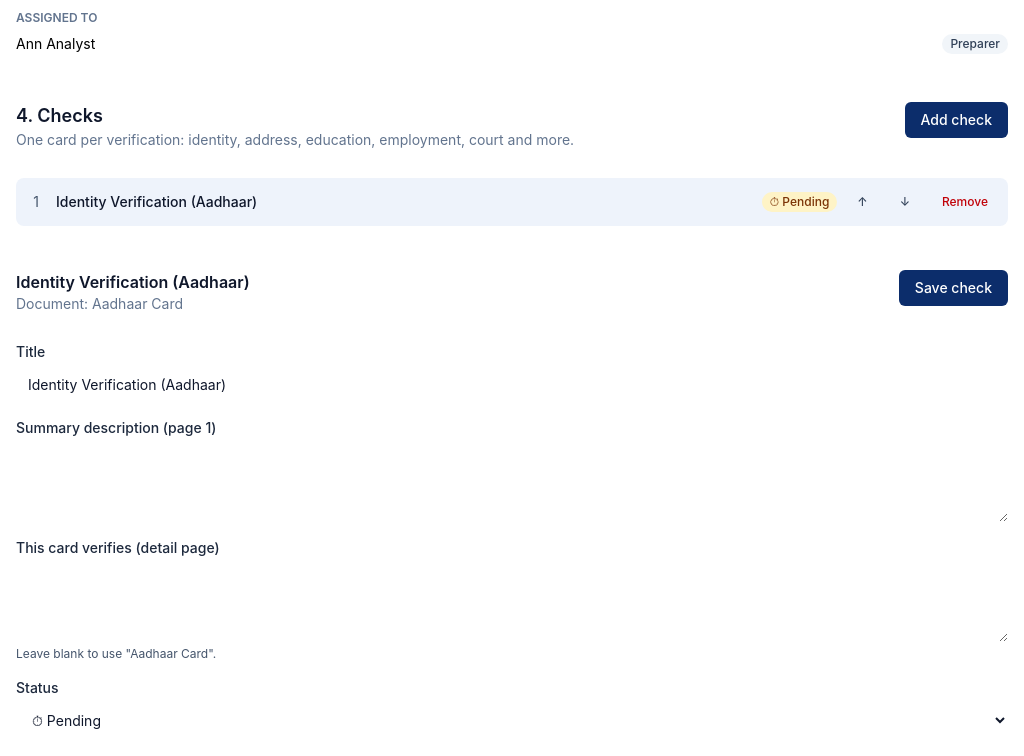
Test case: Checks section › shows the server message and offers a reload when someone else saved first
This screenshot has width=1024, height=756.
(page scrolled)
In the field labelled "Title": (512, 384) left=16, top=366, right=1008, bottom=402, type "!"
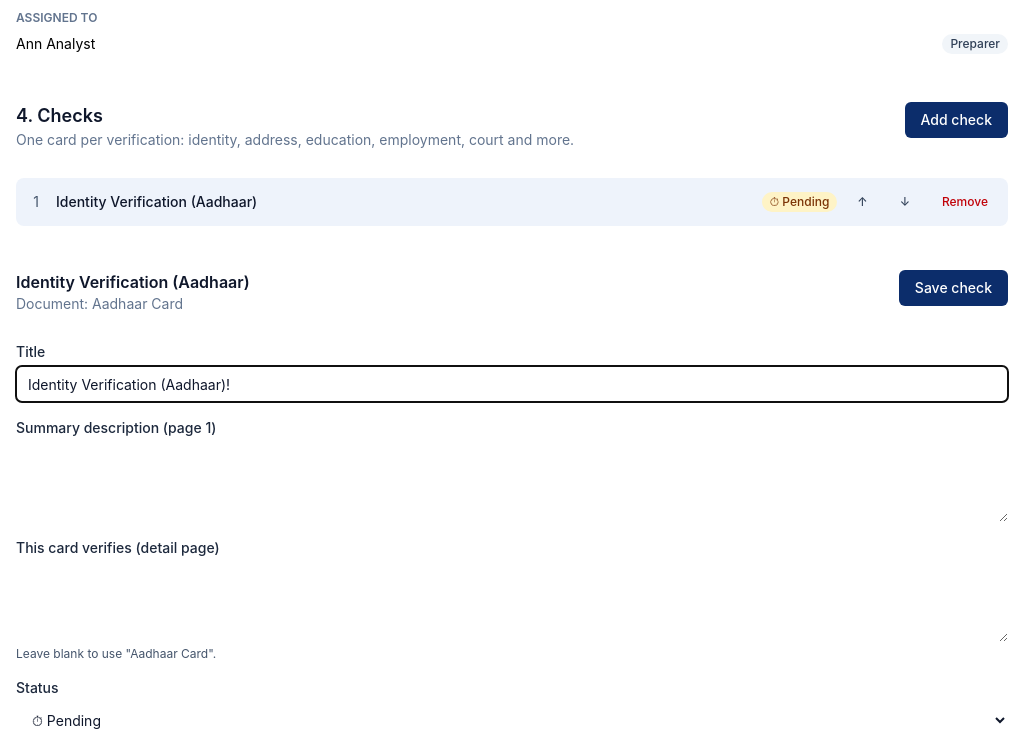
Click the button "Save check": (953, 288) left=899, top=270, right=1008, bottom=306
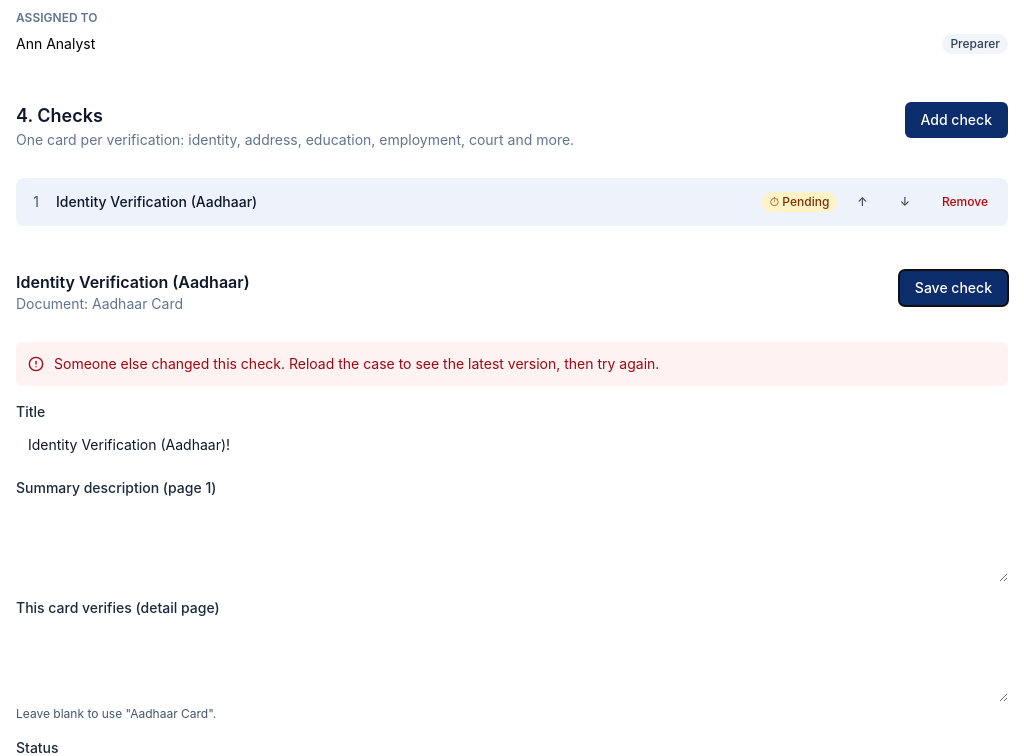
expect the text "Someone else changed this check" is shown: met, box left=54, top=355, right=285, bottom=372
